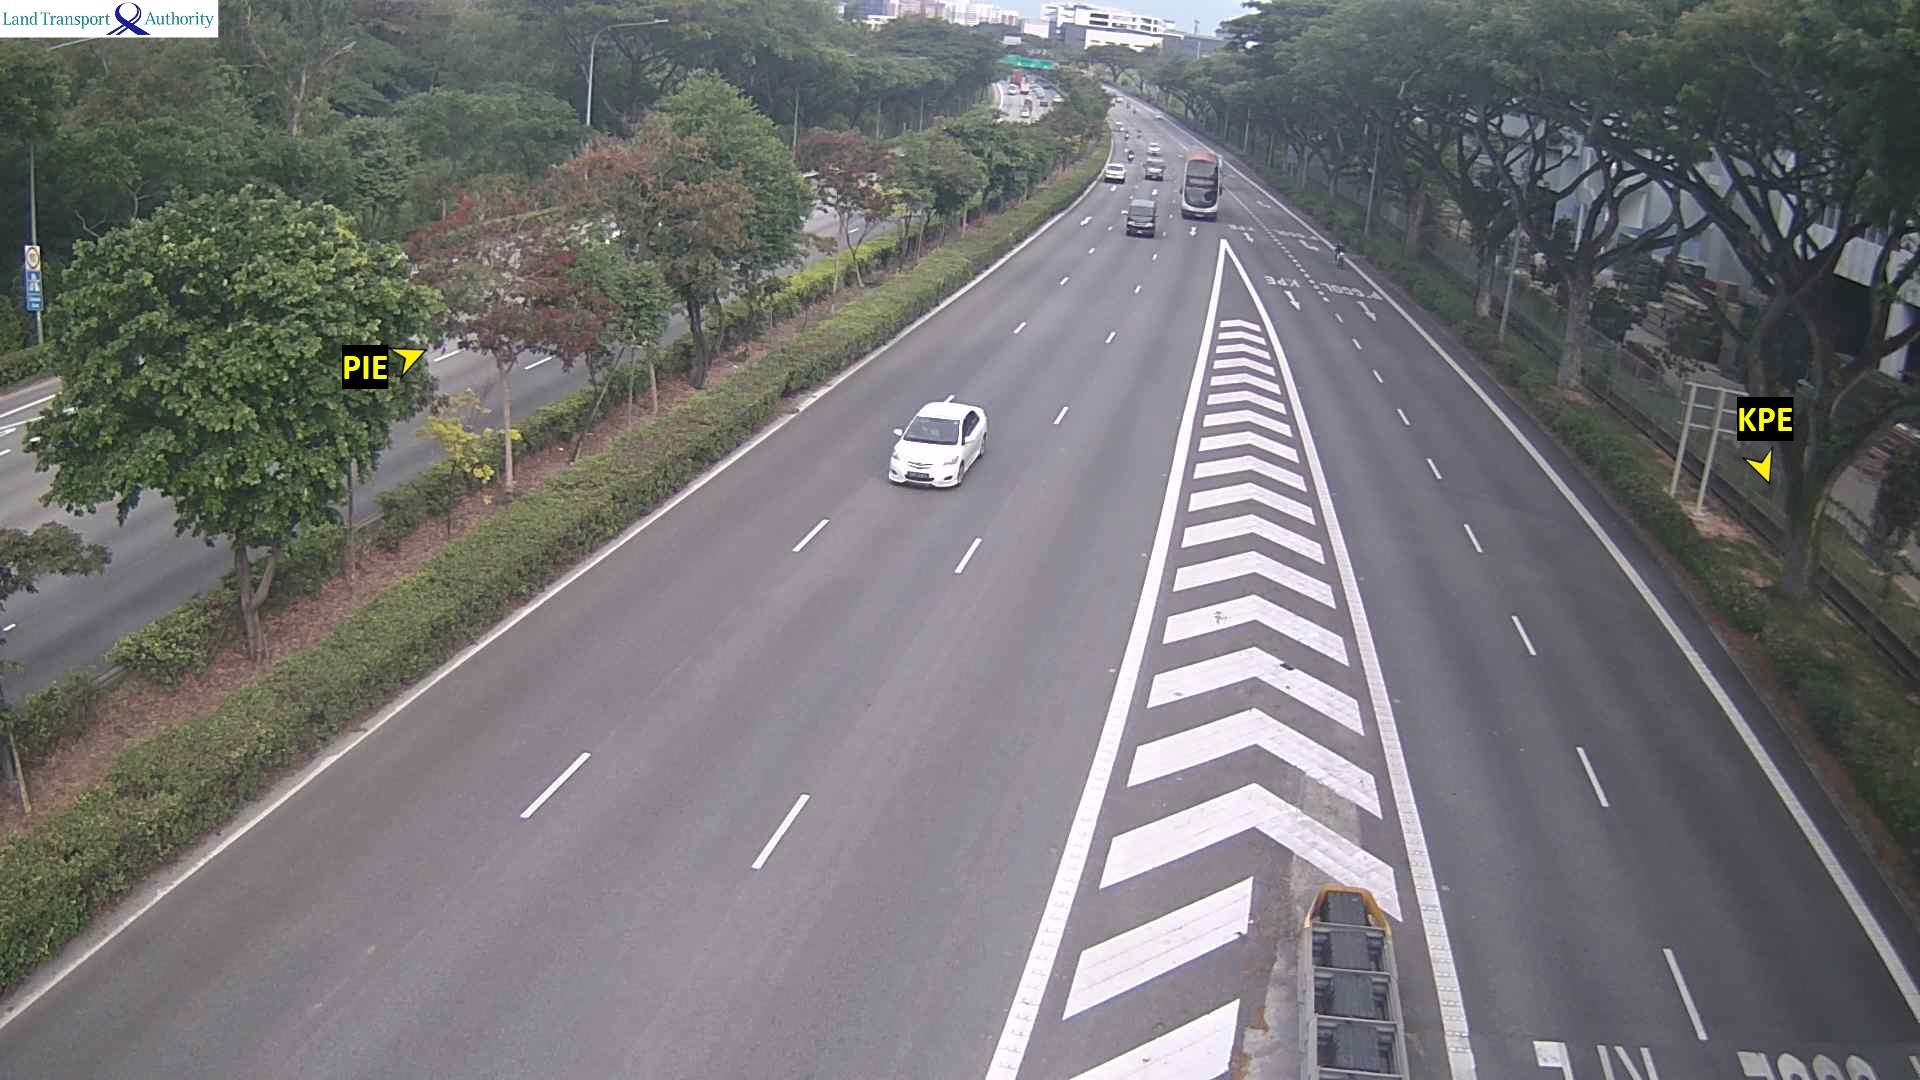bus: (1178, 149, 1221, 220)
cars: (887, 394, 986, 489), (1122, 196, 1156, 237), (1102, 162, 1125, 182), (1143, 161, 1164, 181), (1145, 140, 1162, 157)
motorcycle: (1332, 240, 1346, 269), (1124, 146, 1135, 160)
trucks: (1296, 881, 1408, 1077)
